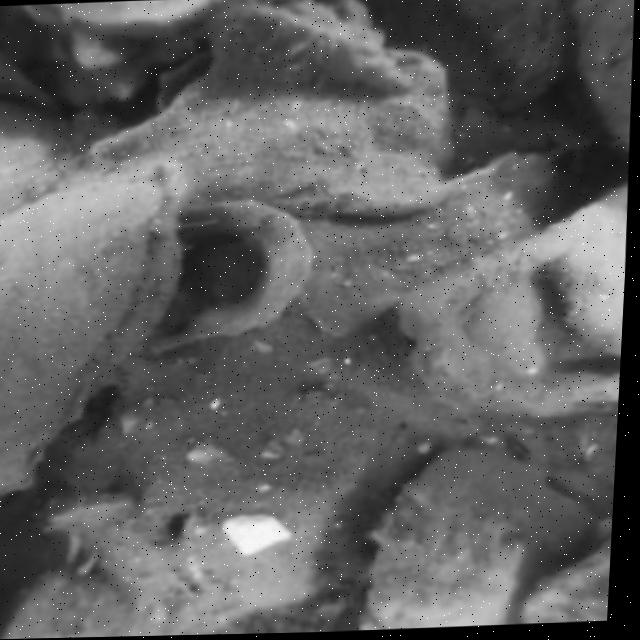Oyster-Closed: (0, 177, 179, 499)
Oyster-Indeterminate: (55, 386, 390, 635), (71, 52, 445, 218), (391, 178, 626, 418), (297, 149, 561, 328), (366, 450, 590, 619), (128, 193, 313, 359), (202, 0, 400, 90), (181, 493, 336, 601), (442, 0, 569, 117), (547, 212, 622, 357), (568, 0, 632, 154), (0, 100, 66, 215), (9, 566, 126, 629), (522, 537, 610, 612)
